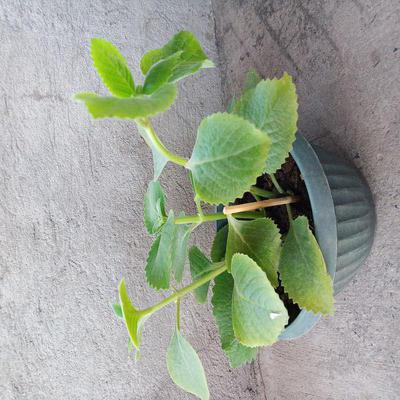Oregano: (63, 73, 304, 357)
